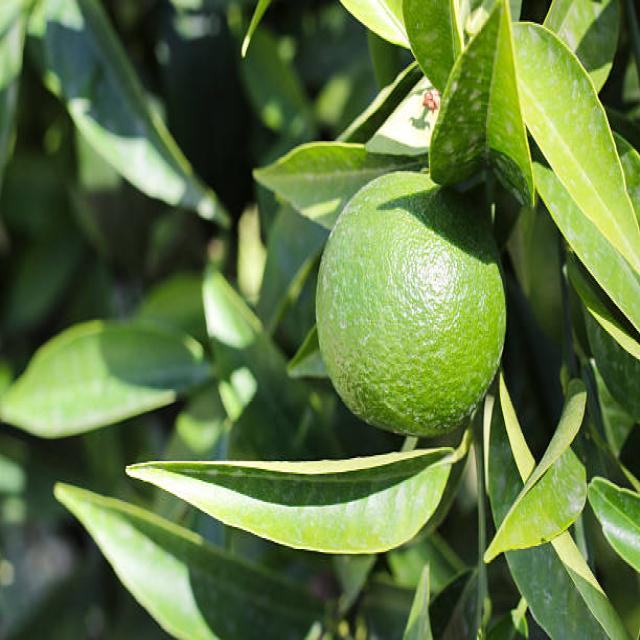Unripe: (318, 165, 506, 438)
